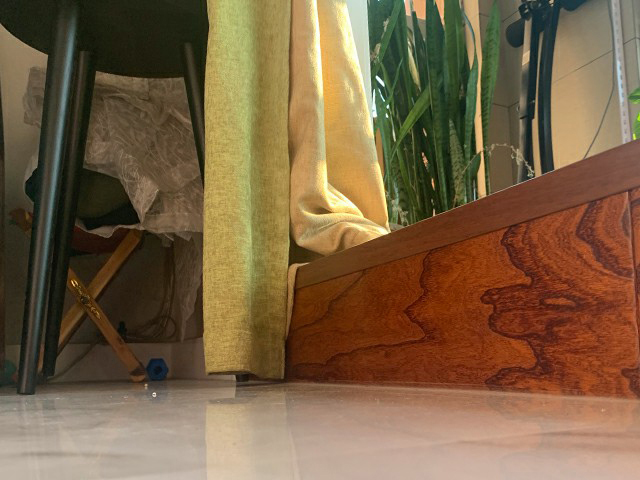curtain: (201, 1, 391, 381)
stool: (1, 1, 210, 394)
